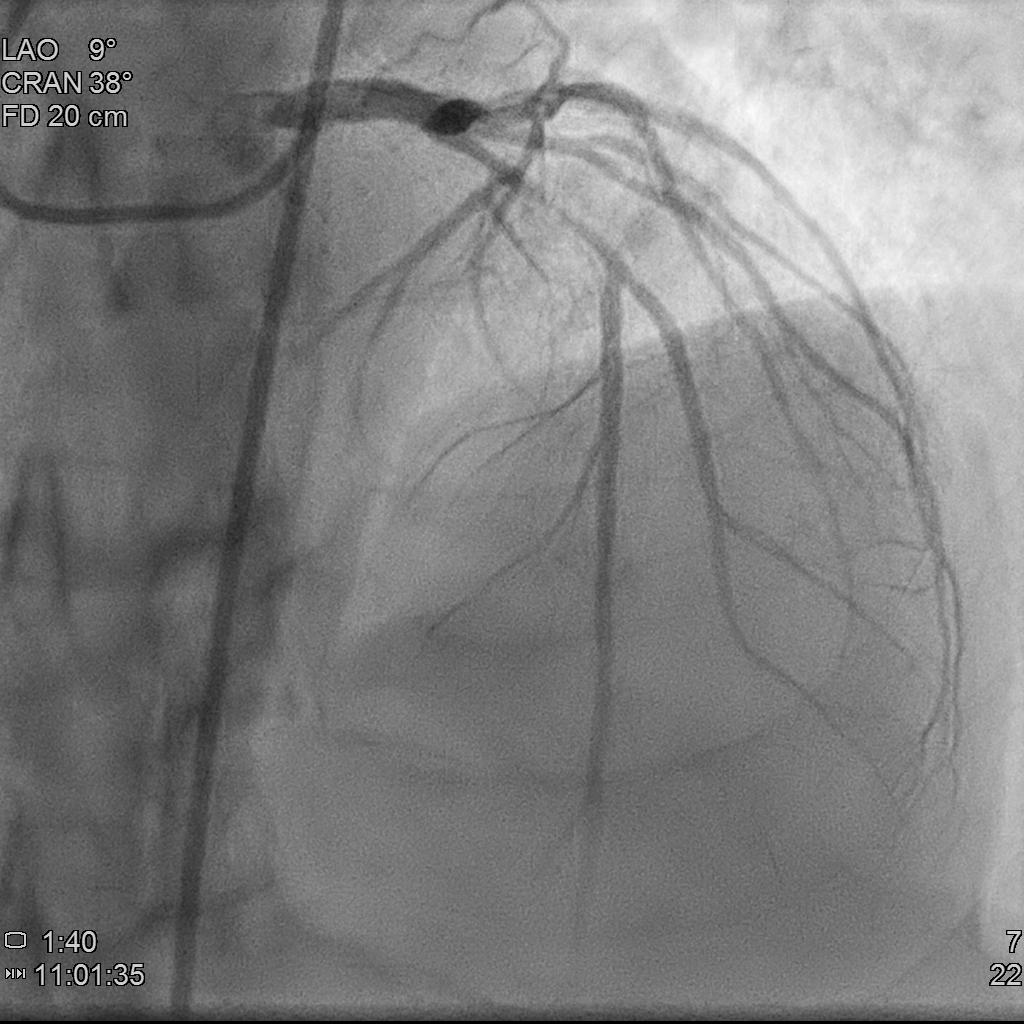block: (516, 172, 607, 249)
